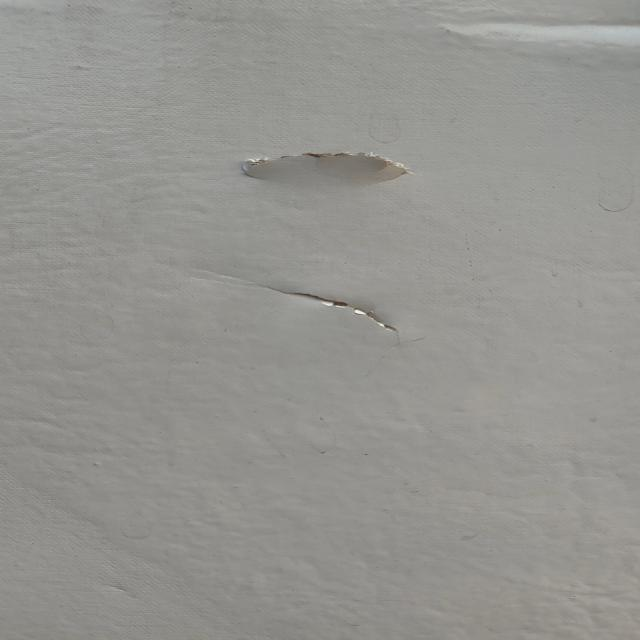Dents or Deformation: (449, 5, 640, 67)
Scratches: (209, 132, 426, 197), (246, 273, 425, 345)
